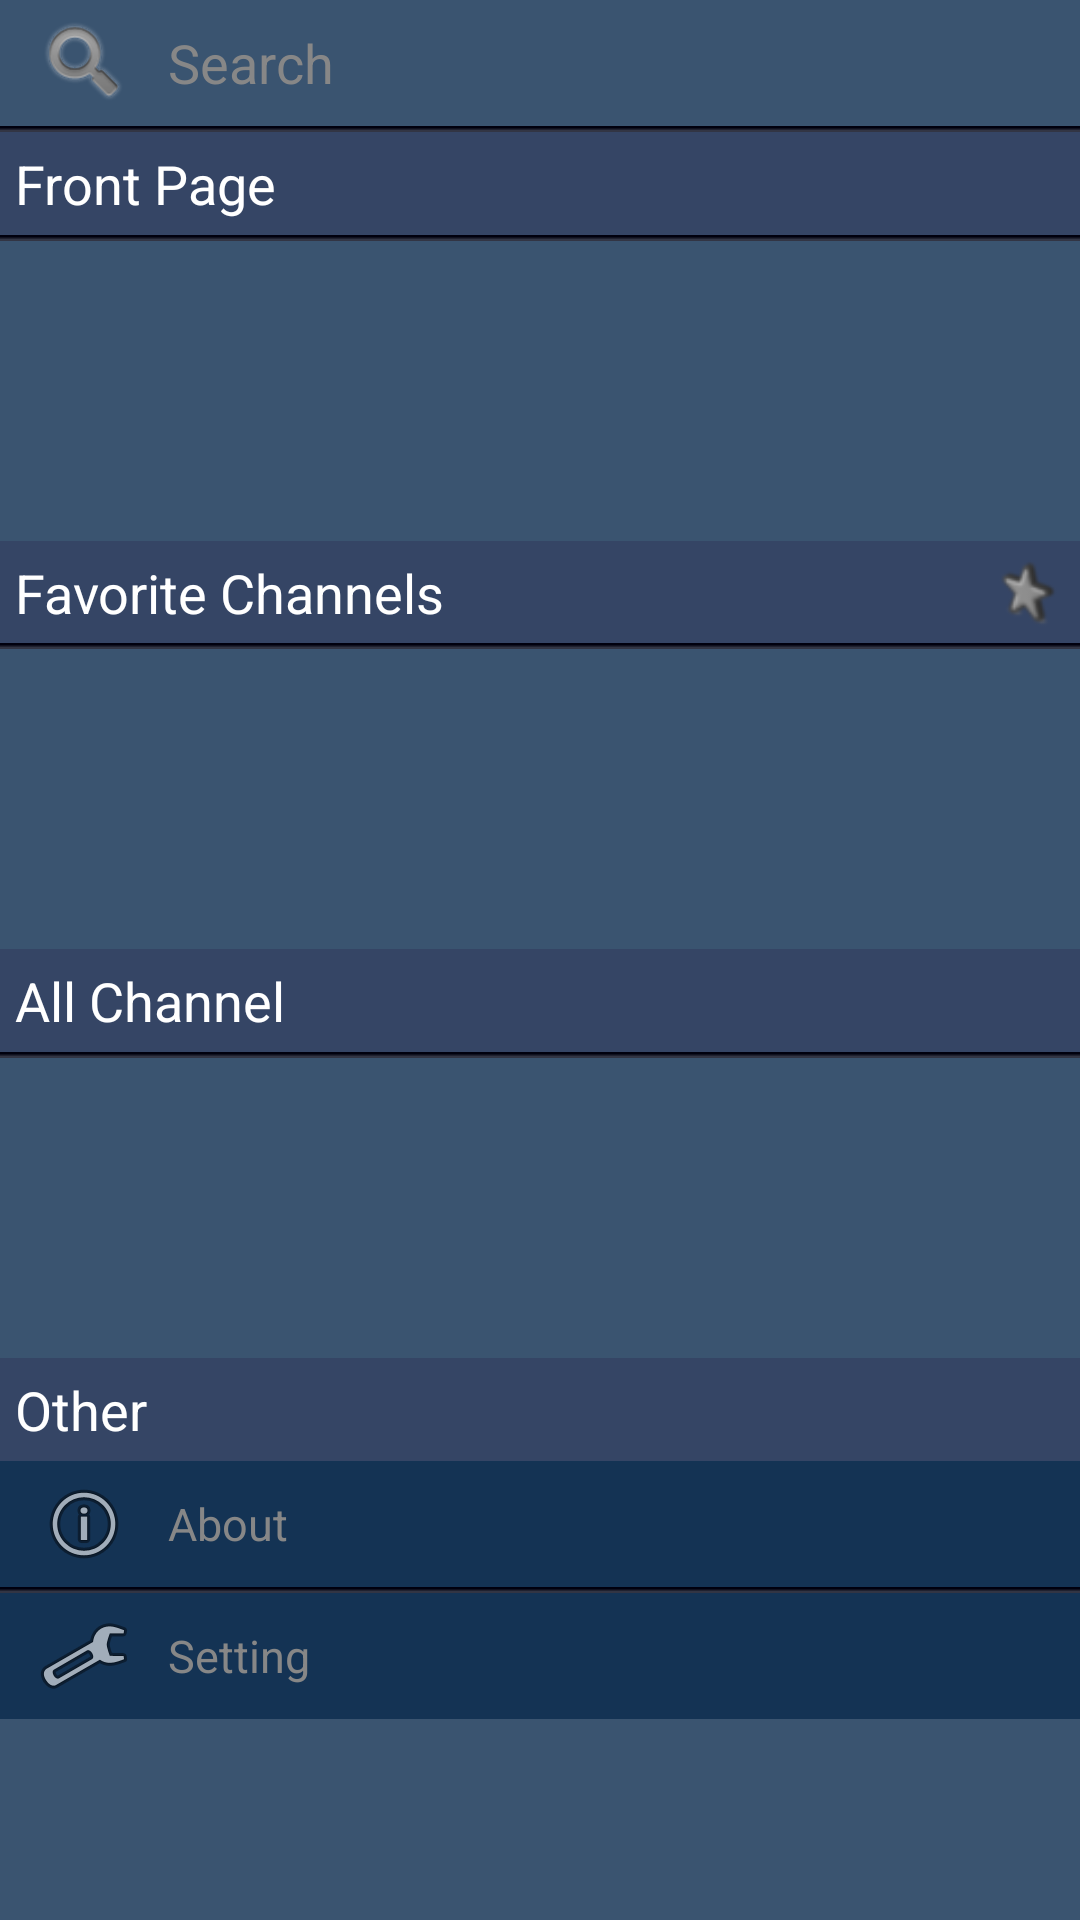

Screen size 1080*1920. Icon name, then its center in pixels as (x,y):
info details: (84,1524)
preferences: (84,1656)
